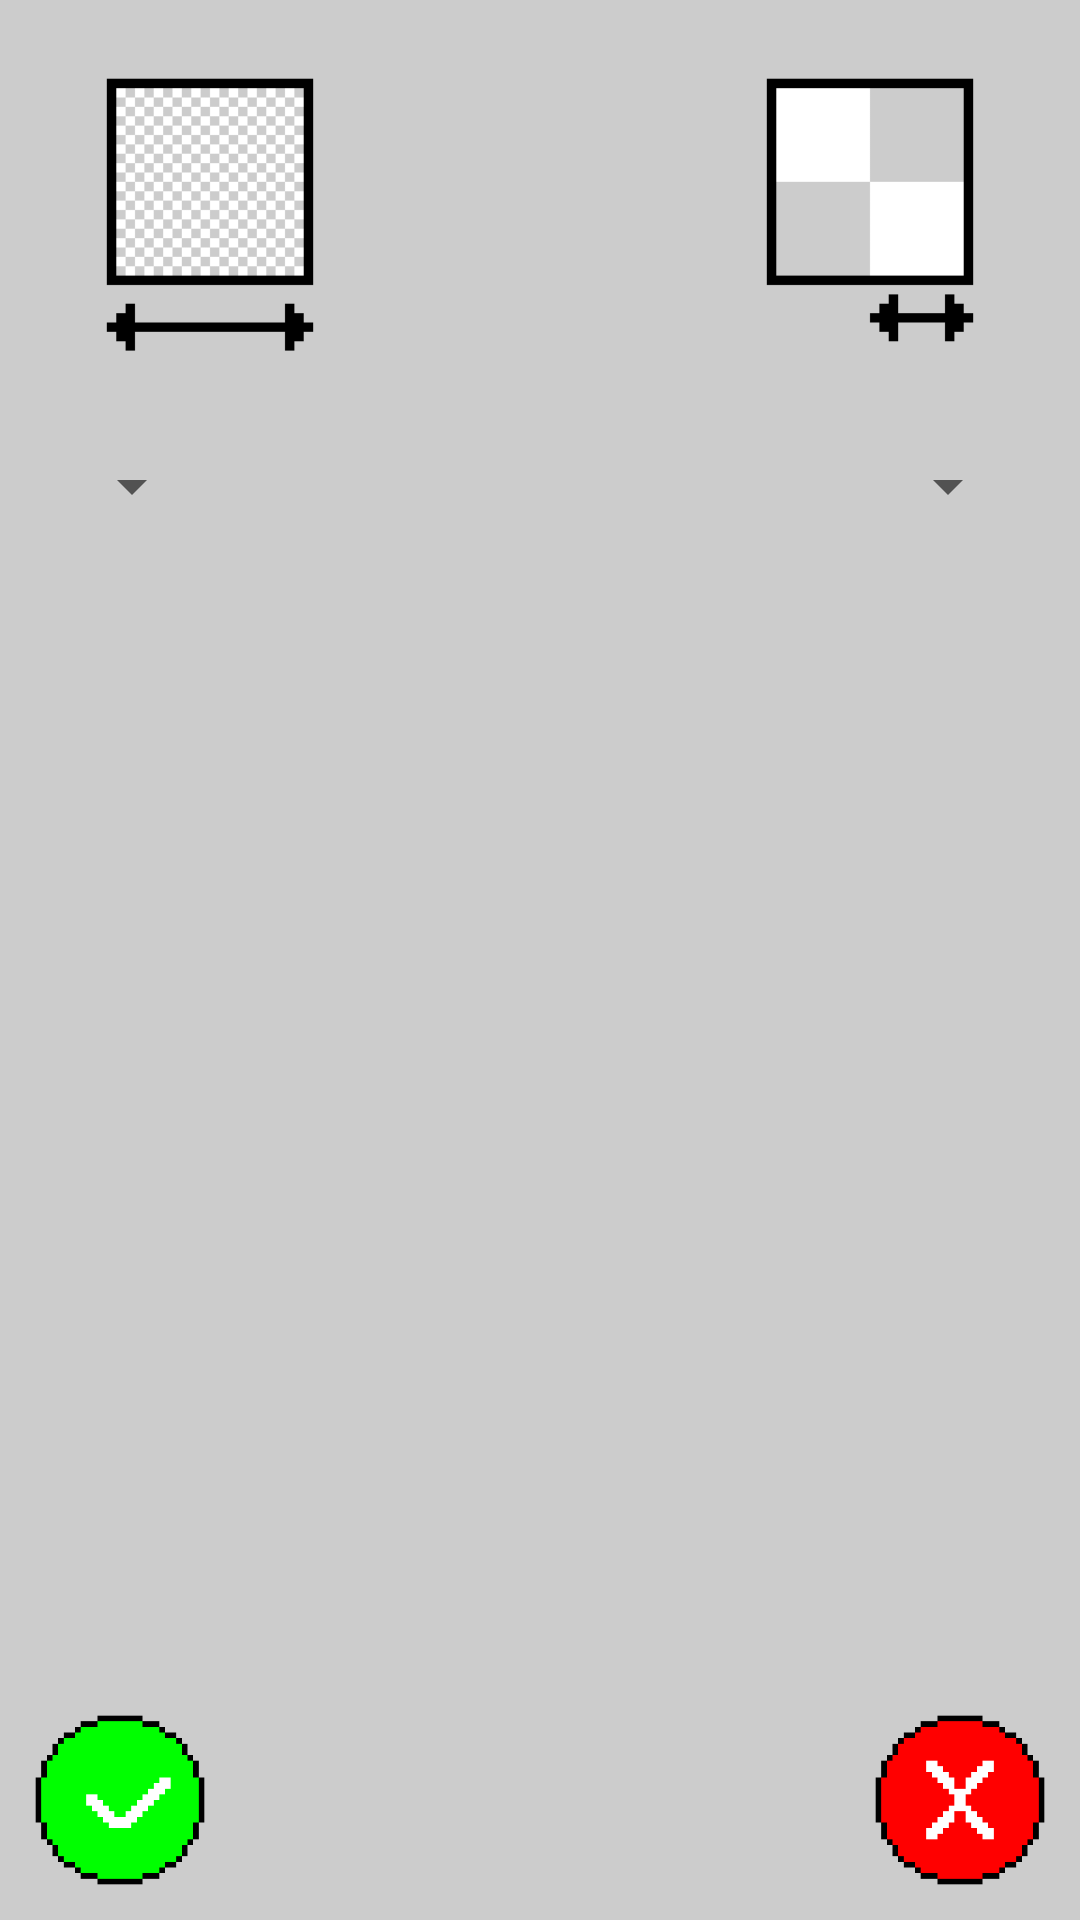

Screen size 1080 x 1920. Icon name, then its box in pixels as (x1, y1, x2, y2):
close: (875, 1715, 1045, 1885)
confirm: (35, 1715, 205, 1885)
dimension: (106, 78, 314, 351)
resolution: (766, 78, 974, 342)
